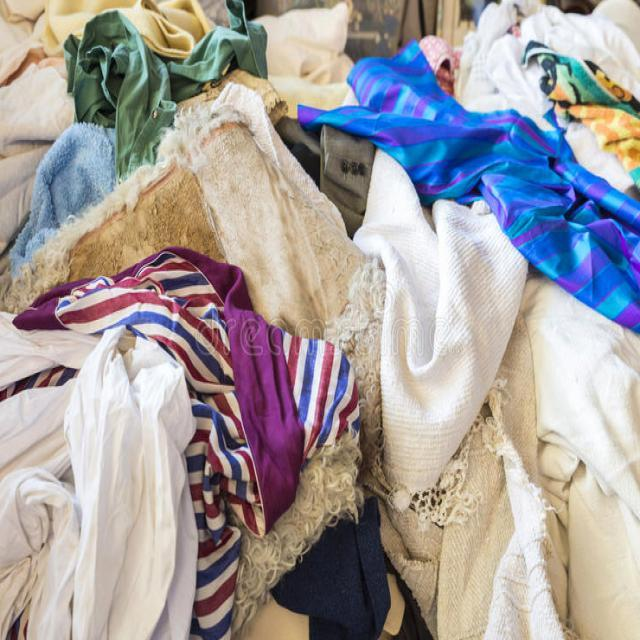clothes: (348, 75, 640, 640), (34, 264, 238, 639)
